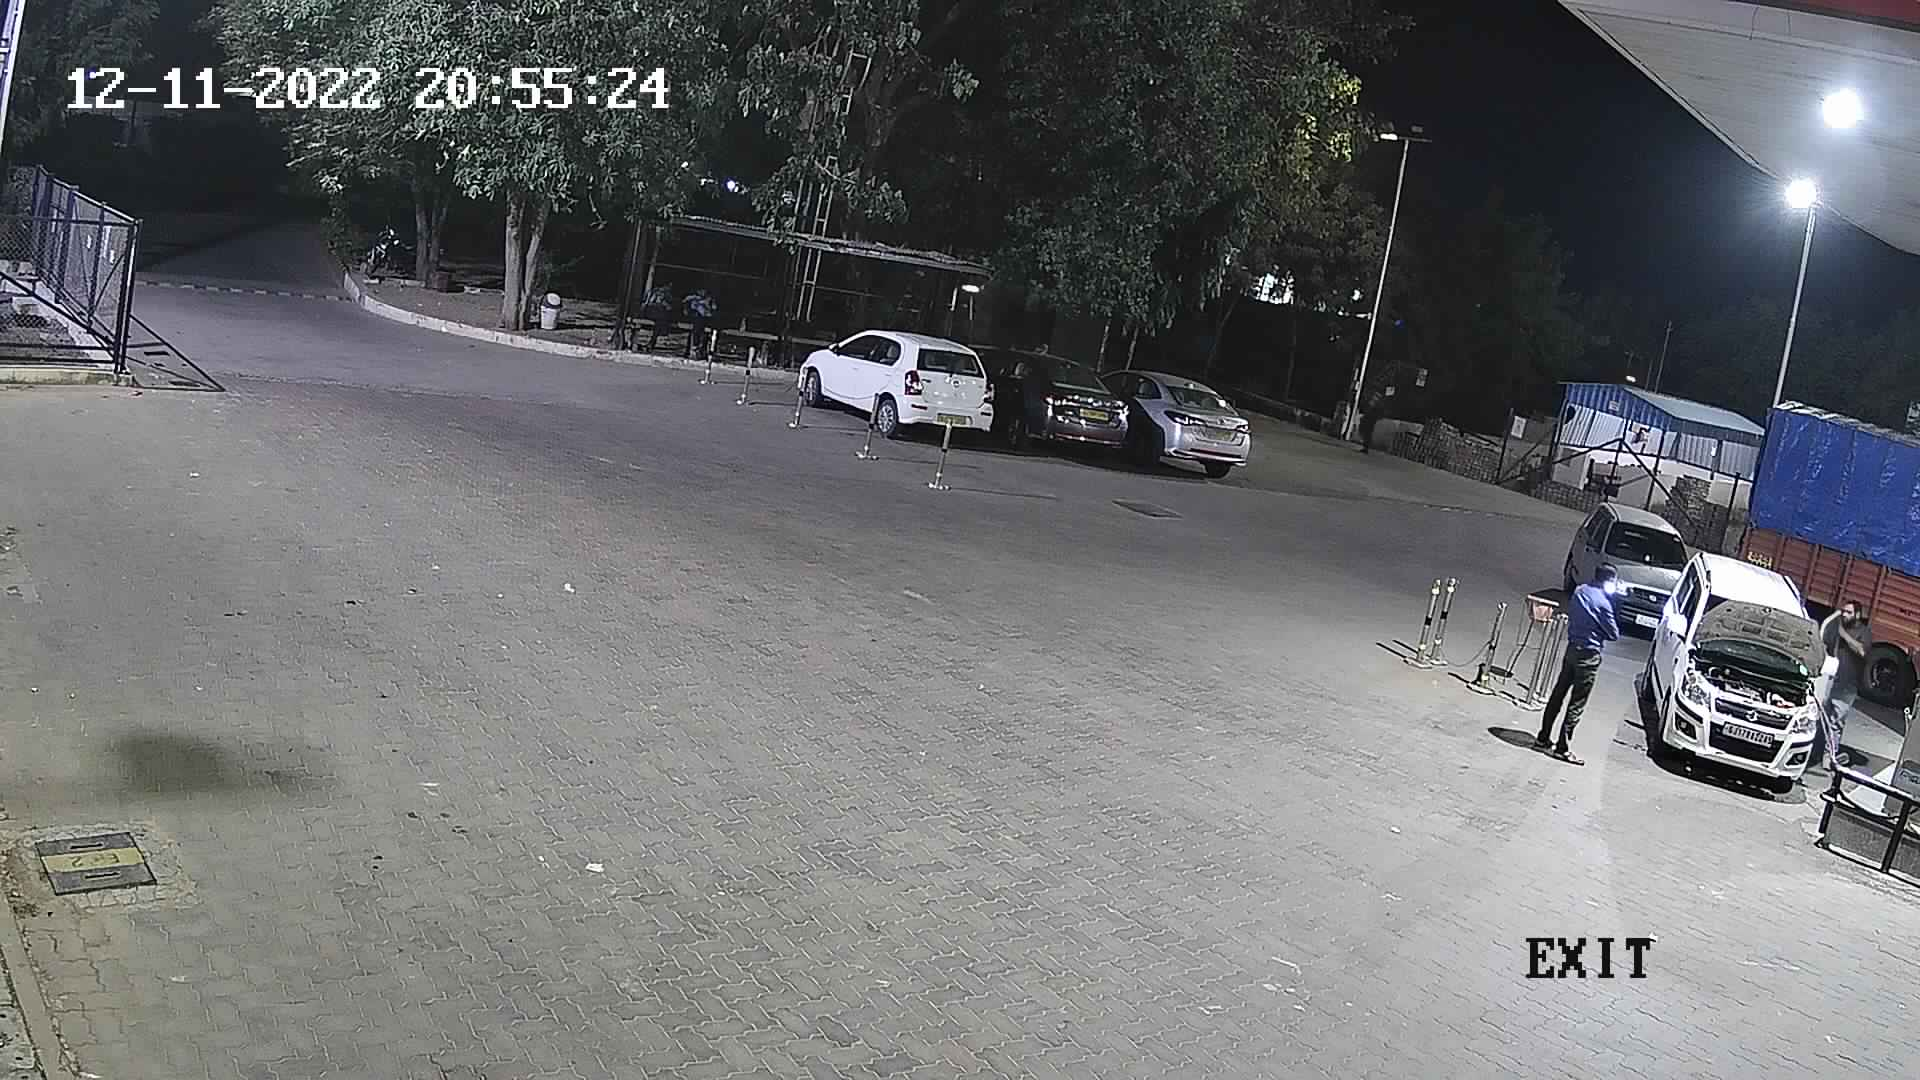Bike: (342, 196, 418, 299)
Car: (1631, 539, 1845, 800), (789, 316, 1007, 448), (963, 332, 1141, 469), (1551, 495, 1701, 646), (1092, 351, 1257, 487)
HMV: (1725, 392, 1915, 705)
